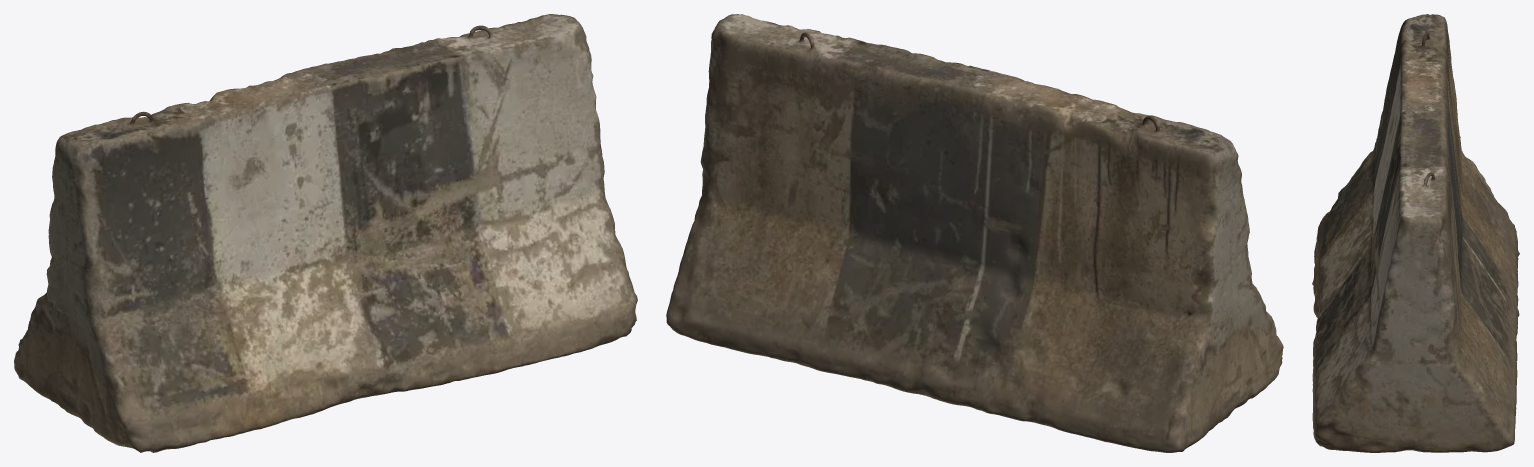
The model's file is concrete_road_barrier.glb.
The picture shows the model from 3 angles, left to right: view 1: azimuth 30°, elevation 25°; view 2: azimuth 150°, elevation 25°; view 3: azimuth 270°, elevation 25°; orthographic projection. The views are drawn at different scales.
Visible parts, largest first — view 1: concrete_road_barrier; view 2: concrete_road_barrier; view 3: concrete_road_barrier.
Part boxes in pixels (left/top/right/bottom): concrete_road_barrier: left=14, top=14, right=637, bottom=452; concrete_road_barrier: left=666, top=14, right=1283, bottom=452; concrete_road_barrier: left=1312, top=14, right=1519, bottom=452.
Bounding box in the file's own units: 1.55 × 0.8311 × 0.6388.
1 material, 1 textured.
